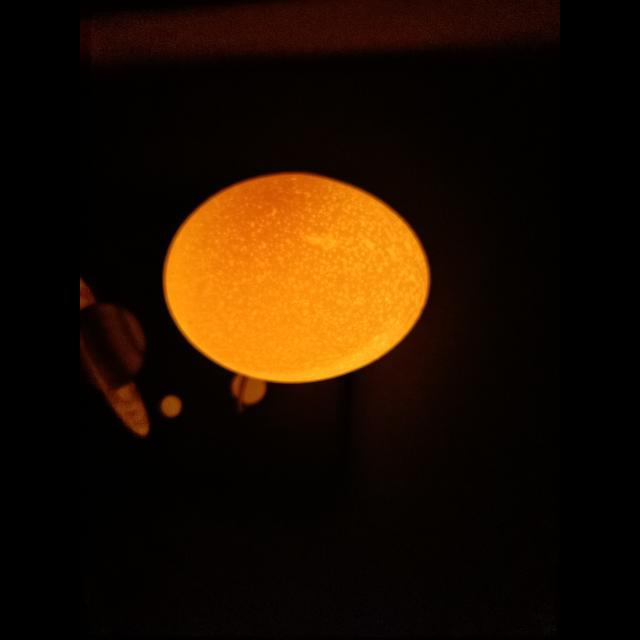AA - Premium: (164, 173, 430, 383)
